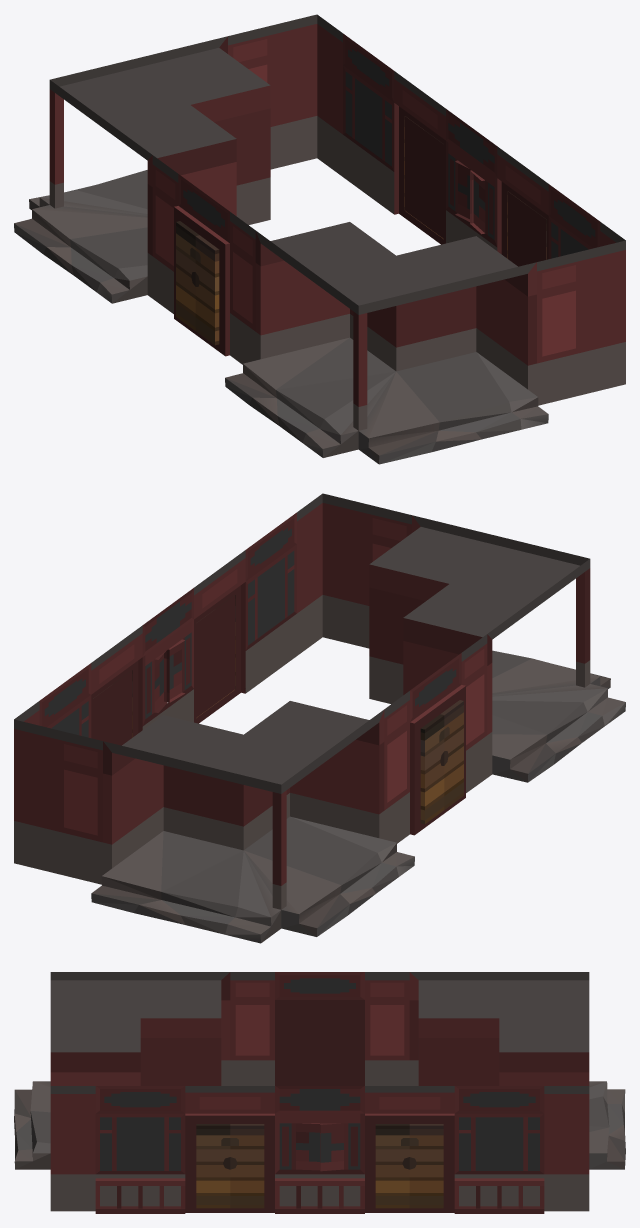
File: BuildingA-Ext_BLOD1.fbx
The picture shows the model from 3 angles, top to bottom: view 1: azimuth 30°, elevation 25°; view 2: azimuth 150°, elevation 25°; view 3: azimuth 270°, elevation 25°; orthographic projection. The views are drawn at different scales.
Visible parts, largest first — view 1: BuildingA-Ext_BLOD1; view 2: BuildingA-Ext_BLOD1; view 3: BuildingA-Ext_BLOD1.
Part boxes in pixels (x1,y1,x2,y2): BuildingA-Ext_BLOD1: (14, 14, 625, 464); BuildingA-Ext_BLOD1: (14, 493, 625, 943); BuildingA-Ext_BLOD1: (14, 972, 625, 1213).
Size of the model in its own units: 877 by 386 by 1705.
